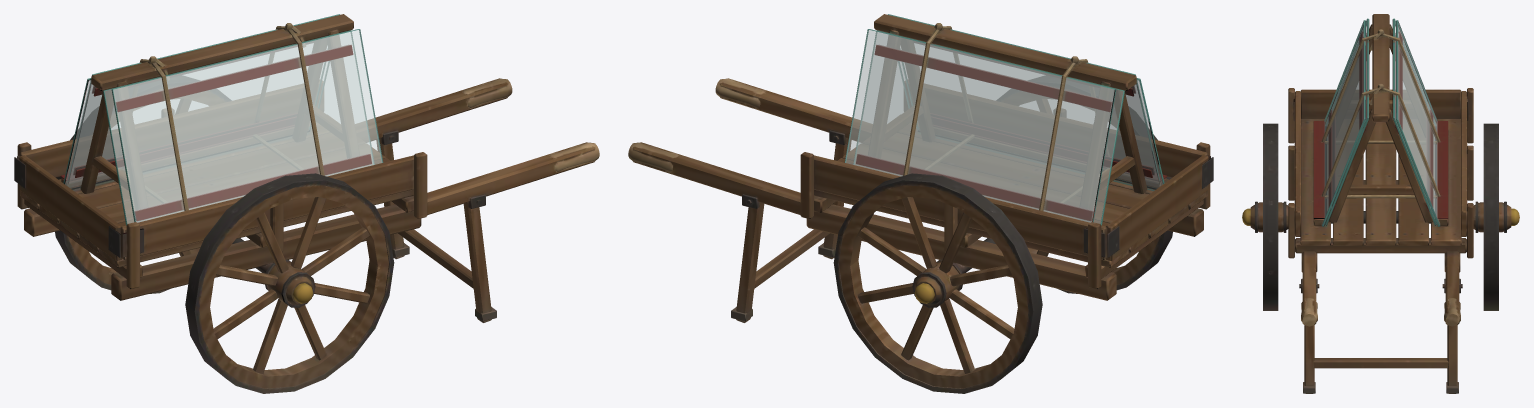
The model's file is glass-cart.hq.glb.
3 views of the same model, side by side, from view 1: azimuth 30°, elevation 25°; view 2: azimuth 150°, elevation 25°; view 3: azimuth 270°, elevation 25° (orthographic). The views are drawn at different scales.
Parts seen in each view (by area): view 1: glass-cart; view 2: glass-cart; view 3: glass-cart.
Part boxes in pixels (x1,y1,x2,y2): glass-cart: (14, 14, 599, 393); glass-cart: (628, 14, 1213, 393); glass-cart: (1242, 14, 1519, 393).
Bounding box in the file's own units: 1.61 × 0.9572 × 0.9701.
Materials: 2 (1 with a texture image).
